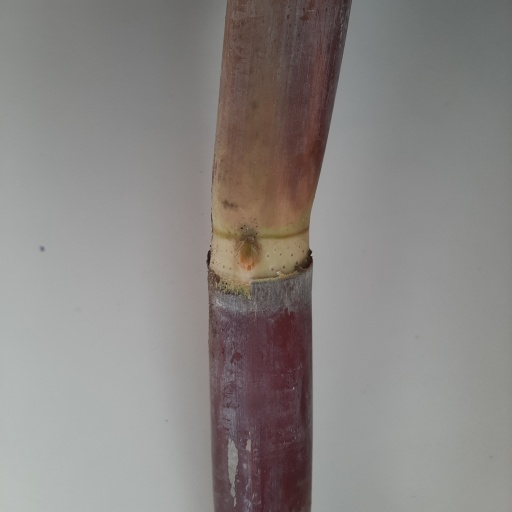Bud: (235, 238, 261, 273)
